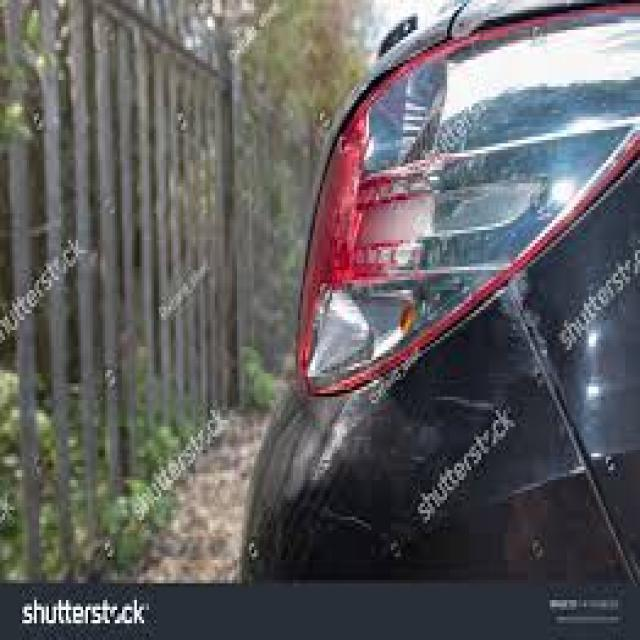damaged-tail-light: (293, 0, 637, 403)
